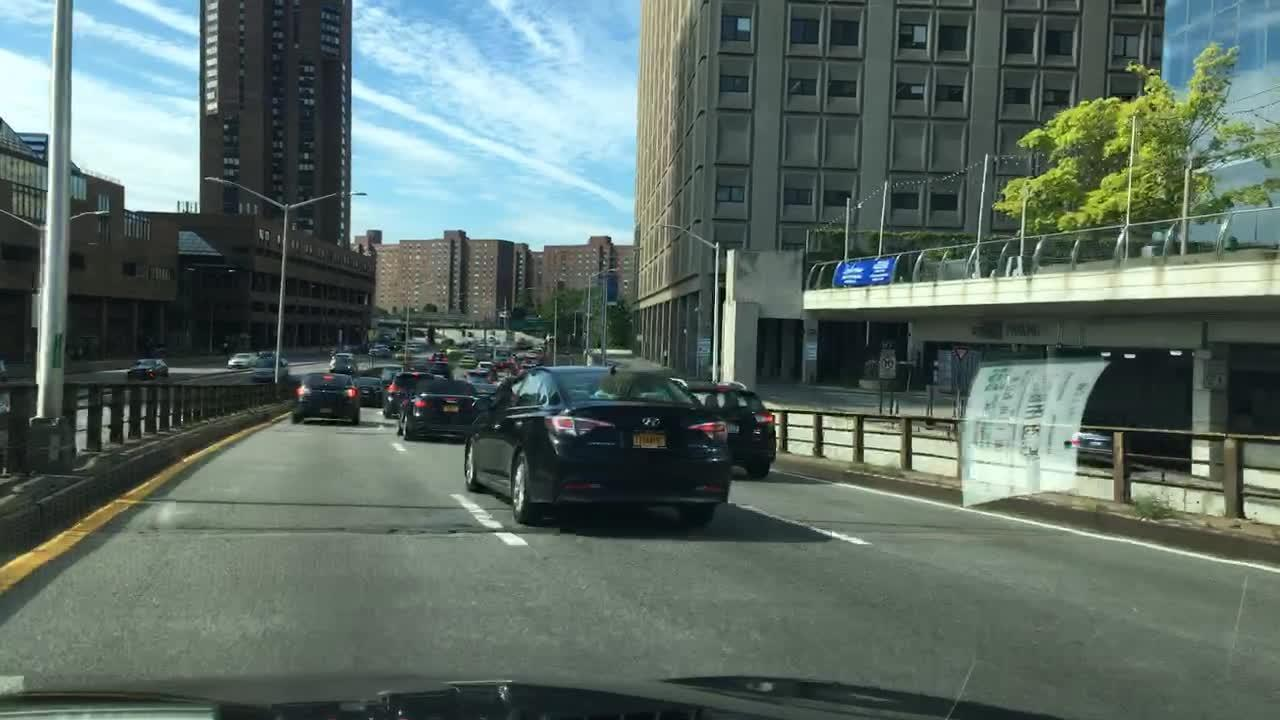Hyundai: (638, 414, 664, 431)
